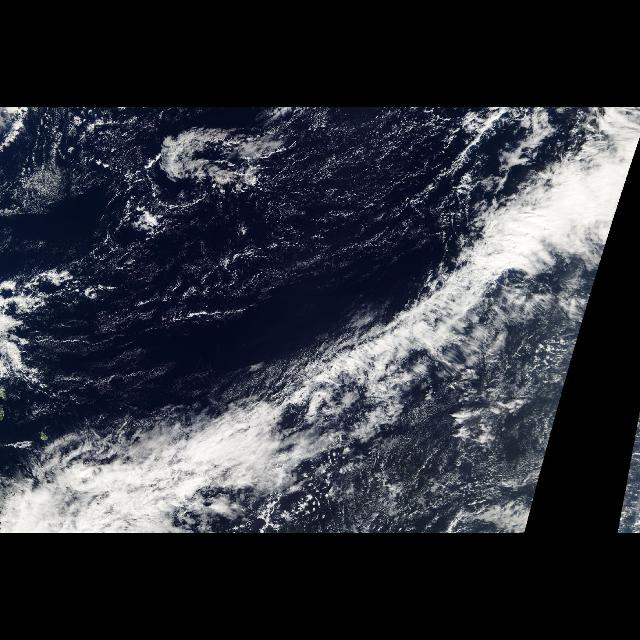Gravel: (56, 128, 242, 304)
Sugar: (264, 115, 476, 311)
